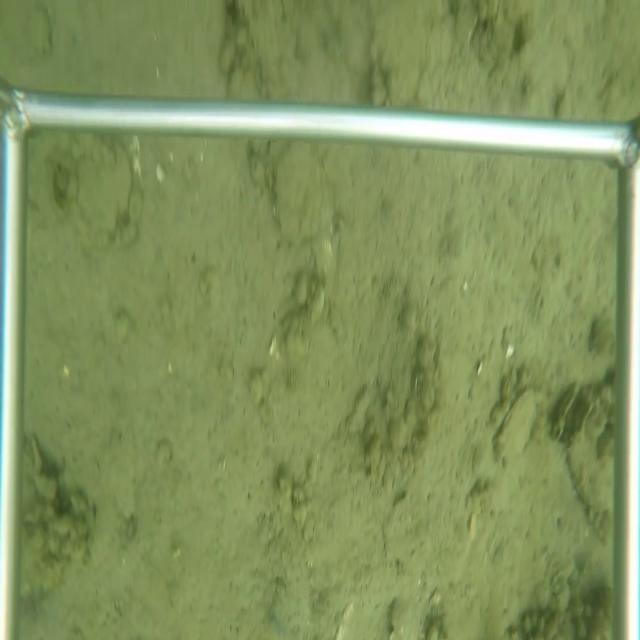Oyster-Indeterminate: (268, 141, 338, 252), (488, 382, 538, 465)
